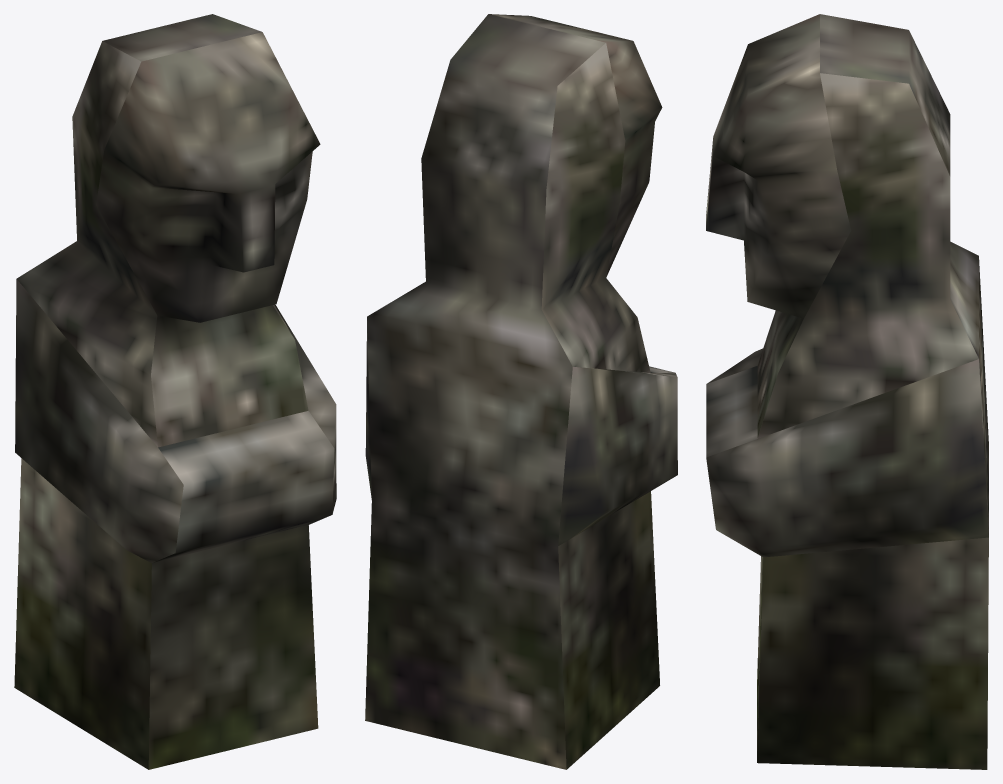
Rendered from landmark_statuestone.glb.
3 renders of one model, left to right at view 1: azimuth 30°, elevation 25°; view 2: azimuth 150°, elevation 25°; view 3: azimuth 270°, elevation 25°, orthographic. The views are drawn at different scales.
Parts seen in each view (by area): view 1: Object01; view 2: Object01; view 3: Object01.
Part boxes in pixels (x1,y1,x2,y2): Object01: [14, 14, 336, 769]; Object01: [365, 14, 677, 769]; Object01: [706, 14, 988, 769].
Bounding box in the file's own units: 0.372 × 0.9872 × 0.3732.
1 material, 1 textured.
